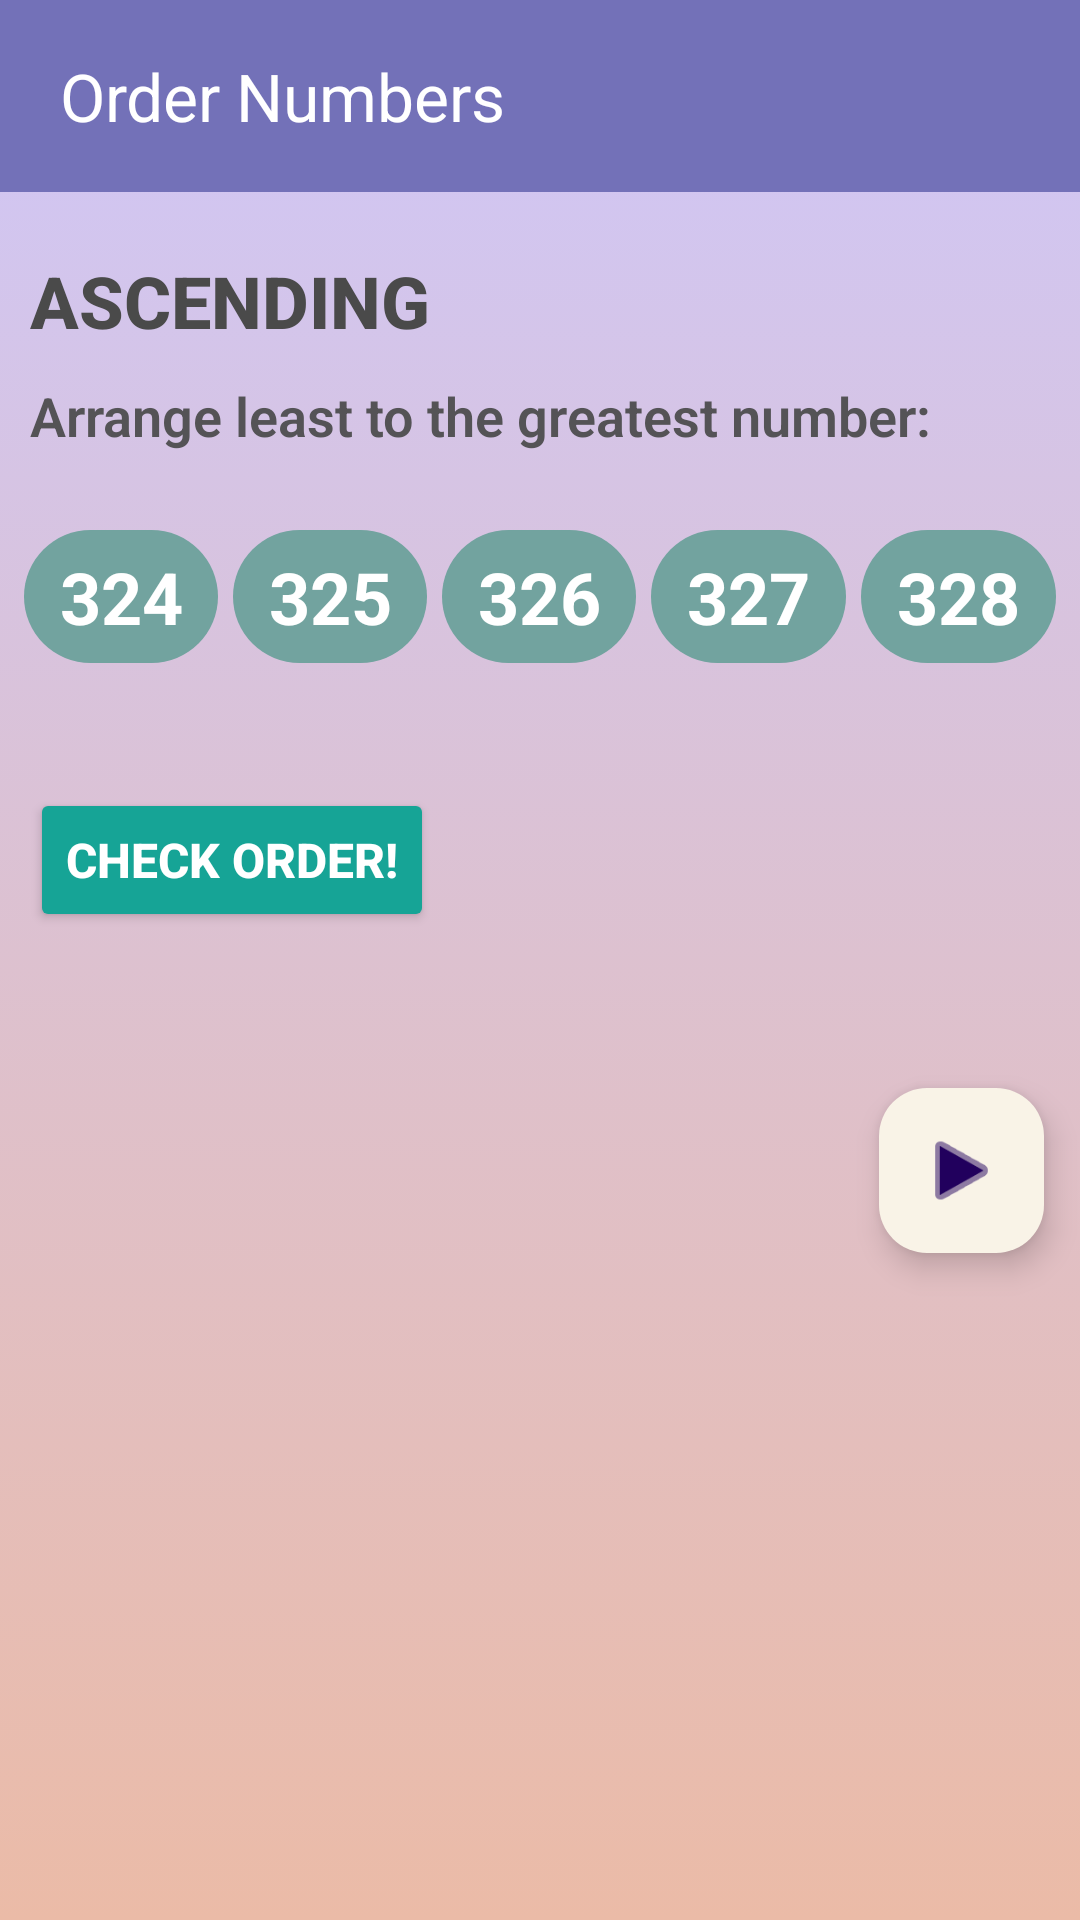

Where to tap for icons on this 1080x1920 app screen, as (x=x, y=y):
play: (x=961, y=1170)
